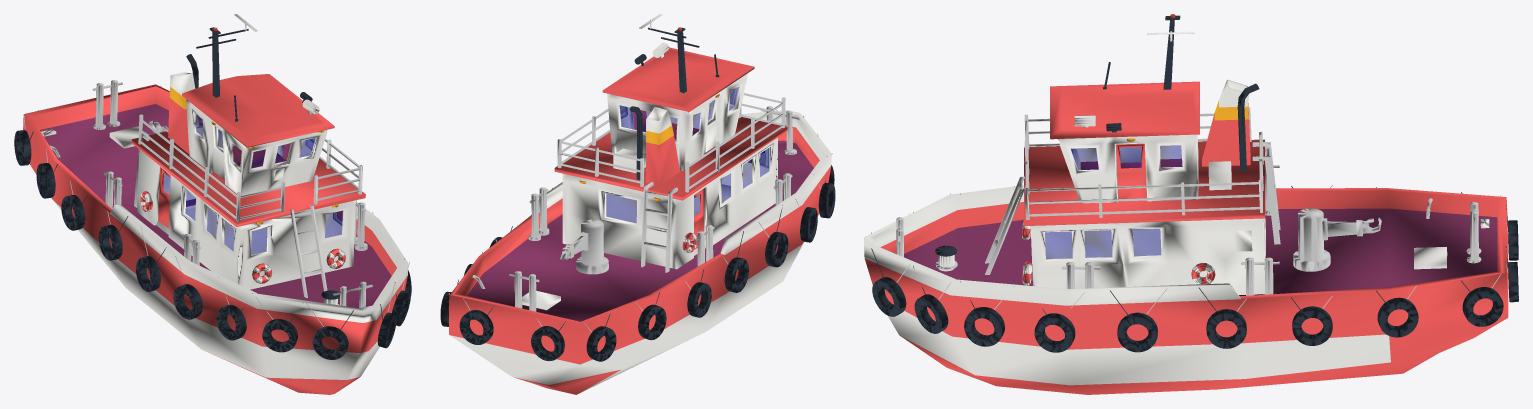
Rendered from BoatTri.obj.
3 renders of one model, left to right at view 1: azimuth 30°, elevation 25°; view 2: azimuth 150°, elevation 25°; view 3: azimuth 270°, elevation 25°, orthographic. The views are drawn at different scales.
Parts seen in each view (by area): view 1: Body, Floor:1, Floor:2, Roof, Cube.2_2, Pipe:Big, Tube_9, Tube_10, Tube_11, Tube_12, Tube_13, Tube_16 (+9 smaller); view 2: Body, Floor:1, Floor:2, Roof, Cube.2_2, Pipe:Big, Cylinder.5, Tube_19, Tube_17, Tube_18, Tube_15, Tube_16 (+11 smaller); view 3: Body, Floor:1, Cube.2_2, Floor:2, Roof, Pipe:Big, Cylinder.5, Tube_4, Tube_3, Tube_8, Tube_6, Tube_2 (+11 smaller).
Boxes of the visible parts, x1,y1,x2,y2 form: Body: [23, 84, 408, 394]; Floor:1: [137, 149, 355, 289]; Floor:2: [186, 99, 327, 195]; Roof: [182, 74, 334, 147]; Cube.2_2: [131, 123, 365, 226]; Pipe:Big: [168, 72, 199, 153]; Tube_9: [312, 326, 348, 359]; Tube_10: [262, 319, 297, 352]; Tube_11: [216, 304, 246, 340]; Tube_12: [173, 284, 202, 319]; Tube_13: [136, 256, 160, 291]; Tube_16: [61, 195, 85, 230]; Body: [449, 110, 831, 394]; Floor:1: [562, 137, 777, 269]; Floor:2: [607, 73, 747, 170]; Roof: [602, 47, 754, 111]; Cube.2_2: [554, 117, 787, 200]; Pipe:Big: [646, 107, 679, 185]; Cylinder.5: [581, 219, 603, 265]; Tube_19: [459, 310, 493, 344]; Tube_17: [531, 326, 564, 360]; Tube_18: [586, 326, 616, 361]; Tube_15: [638, 304, 666, 340]; Tube_16: [687, 282, 711, 317]; Body: [864, 185, 1508, 394]; Floor:1: [1030, 218, 1265, 294]; Cube.2_2: [1024, 139, 1265, 226]; Floor:2: [1059, 134, 1198, 203]; Roof: [1050, 81, 1199, 139]; Pipe:Big: [1202, 79, 1250, 166]; Cylinder.5: [1298, 208, 1323, 261]; Tube_4: [1117, 312, 1157, 352]; Tube_3: [1034, 313, 1075, 352]; Tube_8: [1462, 287, 1503, 326]; Tube_6: [1377, 297, 1418, 337]; Tube_2: [964, 307, 1004, 346].
Bounding box in the file's own units: 140 × 199 × 326.
